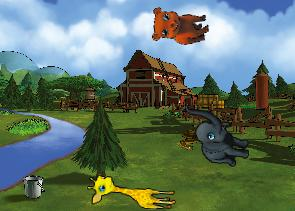bear: (148, 0, 211, 48)
elephant: (178, 104, 254, 168)
giraffe: (86, 173, 177, 210)
